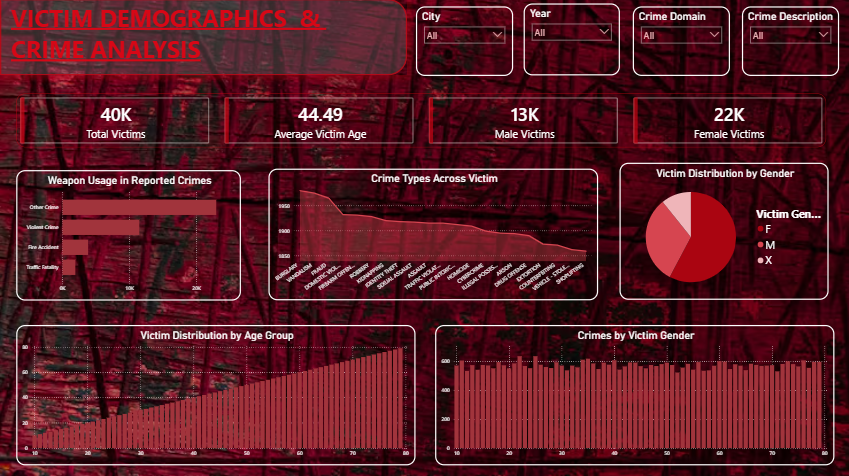

Layout of this report page (visuals, bound fields, positions):
{"tool":"powerbi","page":{"name":"Victims","canvas":[1920,1080],"ordinal":3},"visuals":[{"type":"shape","box":[0,0,920,172.5],"z":0},{"type":"textbox","box":[20,0,767.5,172.5],"z":1000},{"type":"slicer","title":"Year","fields":{"Values":["crime_clean_data.Year"]},"box":[1182.5,10,217.5,162.5],"z":2000},{"type":"slicer","title":"City","fields":{"Values":["crime_clean_data.City"]},"box":[940,15,220,157.5],"z":3000},{"type":"slicer","title":"Crime Domain","fields":{"Values":["crime_clean_data.Crime Domain"]},"box":[1430,15,220,157.5],"z":4000},{"type":"slicer","title":"Crime Description","fields":{"Values":["crime_clean_data.Year"]},"box":[1677.5,15,220,157.5],"z":5000},{"type":"cardVisual","title":"Crime Description","fields":{"Data":["crime_clean_data.Total Victims","crime_clean_data.Average Victim Age","crime_clean_data.Male Victims","crime_clean_data.Female Victims"]},"box":[20,197.5,1865,155],"z":6000},{"type":"clusteredColumnChart","title":"Victim Distribution by Age Group","fields":{"Category":["crime_clean_data.Victim Age"],"Y":["crime_clean_data.Average Victim Age"]},"box":[37.5,737.5,902.5,317.5],"z":7000},{"type":"pieChart","title":"Victim Distribution by Gender","fields":{"Category":["crime_clean_data.Victim Gender"],"Y":["crime_clean_data.Total Victims"]},"box":[1400,370,472.5,310],"z":8000},{"type":"clusteredColumnChart","title":"Crimes by Victim Gender","fields":{"Y":["CountNonNull(crime_clean_data.Crime Description)"],"Category":["crime_clean_data.Victim Age"]},"box":[982.5,737.5,902.5,317.5],"z":9000},{"type":"clusteredBarChart","title":"Weapon Usage in Reported Crimes","fields":{"Category":["crime_clean_data.Crime Domain"],"Y":["CountNonNull(crime_clean_data.Weapon Used)"]},"box":[37.5,385,507.5,295],"z":10000},{"type":"stackedAreaChart","title":"Crime Types Across Victim","fields":{"Category":["crime_clean_data.Crime Description"],"Y":["crime_clean_data.Total Victims"]},"box":[607.5,382.5,745,297.5],"z":10001}]}

Visuals, with their boxes in screenshot pixels (x1, y1, x2, y2), scaled from the page's 1920x1080 canvas onto the 849x476 screenshot:
shape: Rect(0, 0, 407, 76)
textbox: Rect(9, 0, 348, 76)
"Year" slicer: Rect(523, 4, 619, 76)
"City" slicer: Rect(416, 7, 513, 76)
"Crime Domain" slicer: Rect(632, 7, 730, 76)
"Crime Description" slicer: Rect(742, 7, 839, 76)
"Crime Description" cardVisual: Rect(9, 87, 834, 155)
"Victim Distribution by Age Group" clusteredColumnChart: Rect(17, 325, 416, 465)
"Victim Distribution by Gender" pieChart: Rect(619, 163, 828, 300)
"Crimes by Victim Gender" clusteredColumnChart: Rect(434, 325, 834, 465)
"Weapon Usage in Reported Crimes" clusteredBarChart: Rect(17, 170, 241, 300)
"Crime Types Across Victim" stackedAreaChart: Rect(269, 169, 598, 300)
